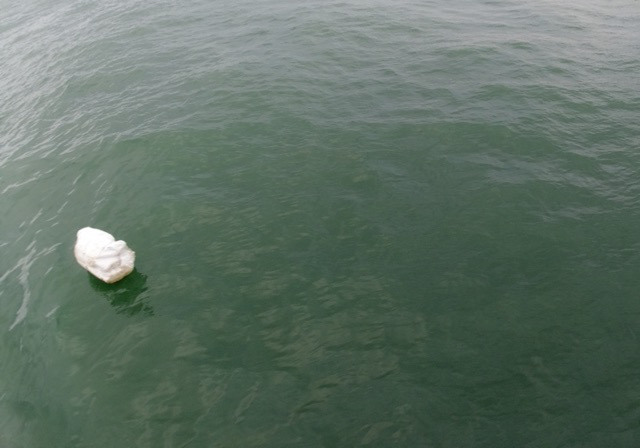plastic: (71, 223, 140, 288)
